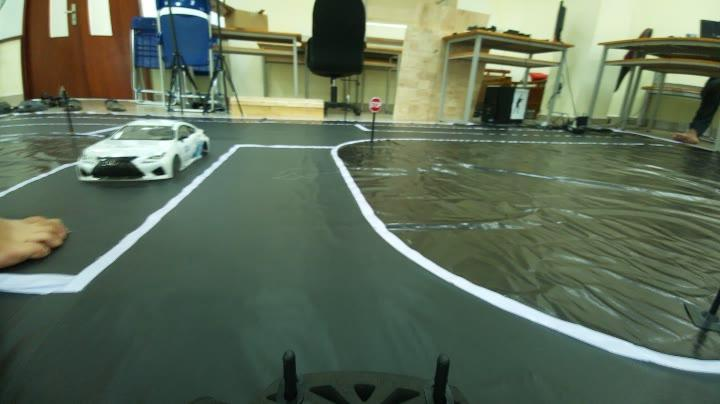car: (78, 118, 210, 190)
stop: (362, 95, 383, 110)
